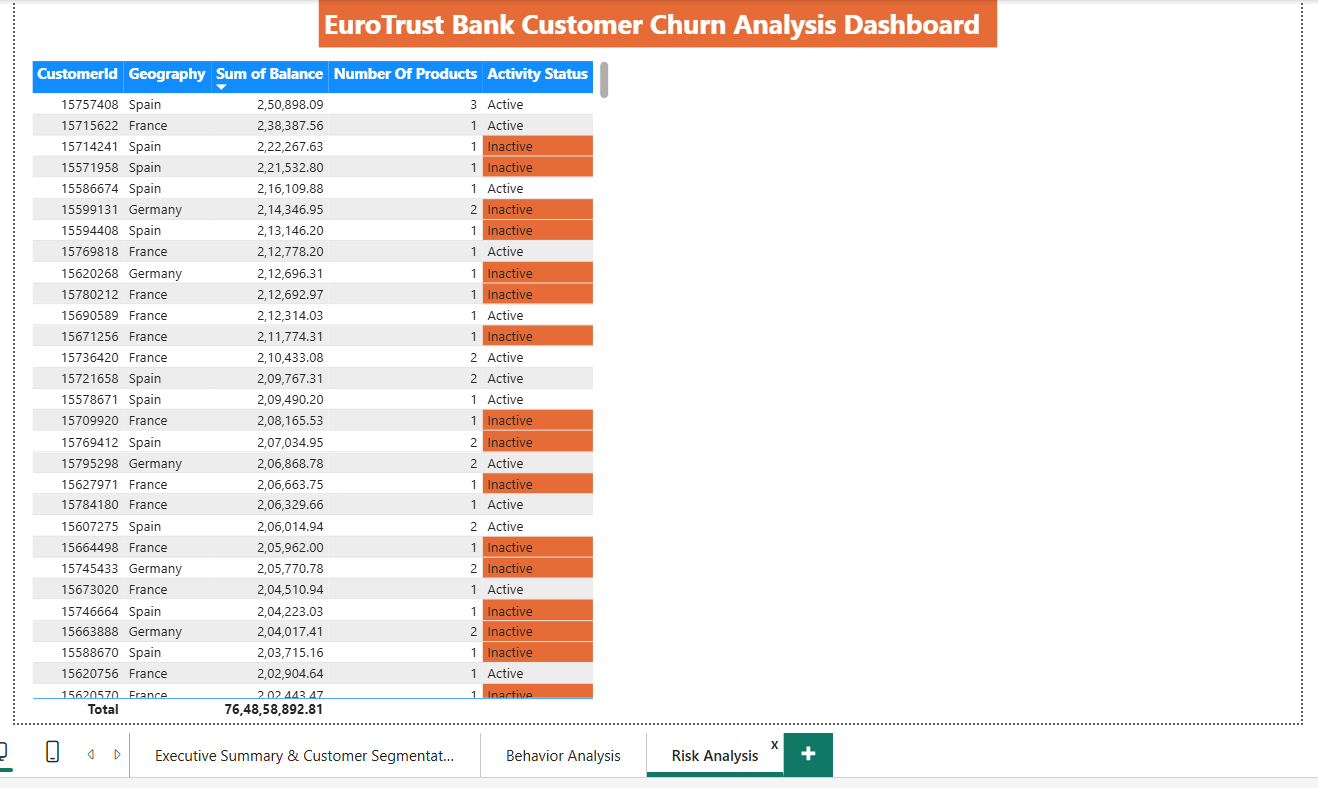

This screenshot's page, from the dashboard's own definition file:
{"tool":"powerbi","page":{"name":"Risk Analysis","canvas":[1280,720],"ordinal":2},"visuals":[{"type":"textbox","box":[302.3,0,675.5,47.3],"z":0},{"type":"tableEx","fields":{"Values":["Churn_Analysis.CustomerId","Churn_Analysis.Geography","Sum(Churn_Analysis.Balance)","Churn_Analysis.Number_Of_Products","Churn_Analysis.Activity_Status"]},"box":[11.2,56,584.7,664.3],"z":1000},{"type":"textbox","box":[627,56,639.4,618.2],"z":1001}]}

Visuals, with their boxes on the page's 1280x720 design canvas (x1, y1, x2, y2). These are canvas units, not pixel positions in the 1318x788 screenshot, which may show the page scaled, cropped or inside an application window:
textbox: [x1=302, y1=0, x2=978, y2=47]
tableEx - Churn_Analysis.CustomerId x Churn_Analysis.Geography: [x1=11, y1=56, x2=596, y2=720]
textbox: [x1=627, y1=56, x2=1266, y2=674]
